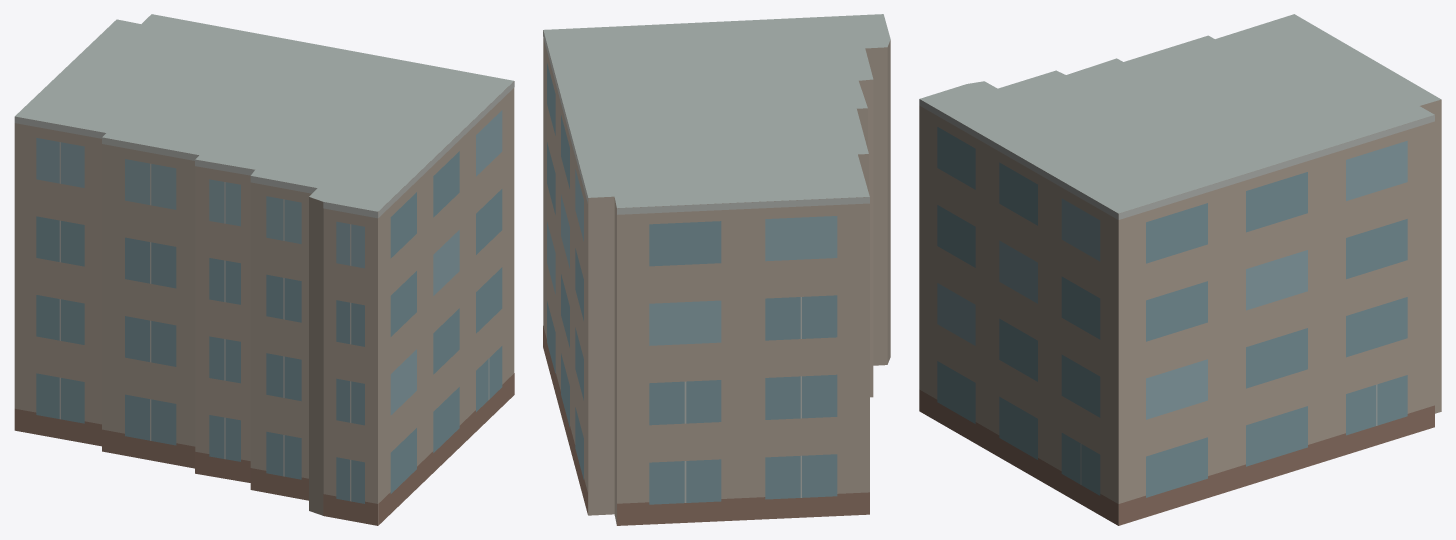
Rendered from survey-upis-32929909.glb.
3 views of the same model, side by side, from view 1: azimuth 30°, elevation 25°; view 2: azimuth 150°, elevation 25°; view 3: azimuth 270°, elevation 25° (orthographic).
Parts seen in each view (by area): view 1: survey-upis-32929909.tmp; view 2: survey-upis-32929909.tmp; view 3: survey-upis-32929909.tmp.
Boxes of the visible parts, left/top/right/bottom form: survey-upis-32929909.tmp: left=14, top=14, right=514, bottom=525; survey-upis-32929909.tmp: left=543, top=14, right=890, bottom=525; survey-upis-32929909.tmp: left=919, top=14, right=1441, bottom=525.
Bounding box in the file's own units: 15.91 × 11.6 × 17.59.
